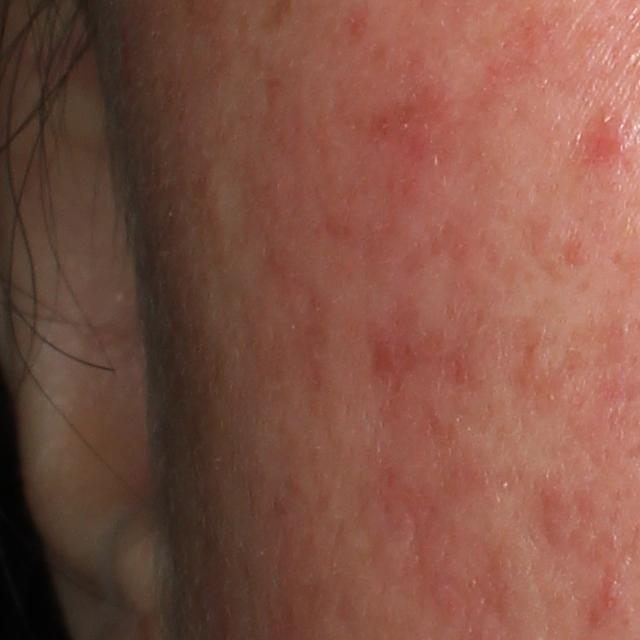papule: (588, 113, 629, 170)
